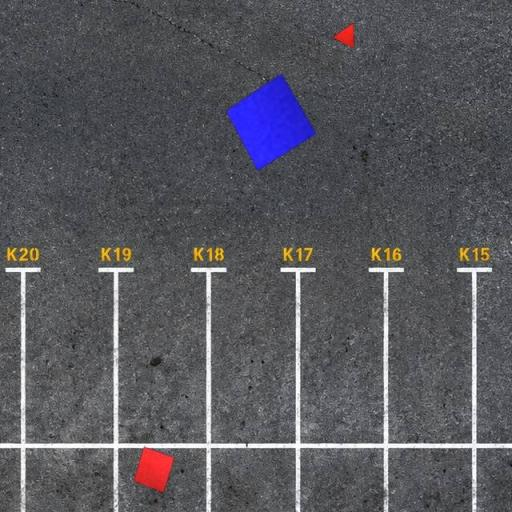BLUE_SQUARE: (224, 73, 318, 171)
RED_SQUARE: (133, 446, 175, 494)
